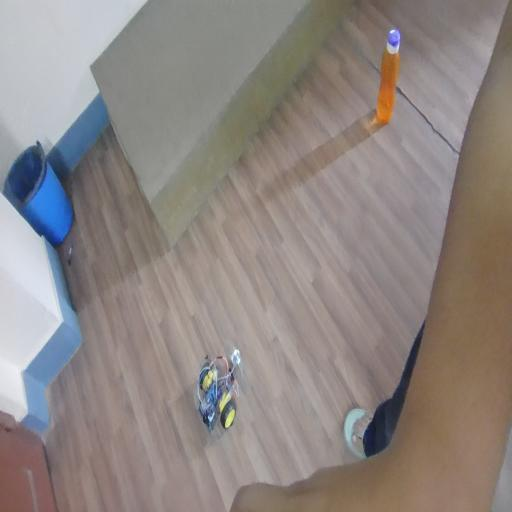Bottle: (384, 27, 398, 112)
car: (196, 329, 242, 440)
